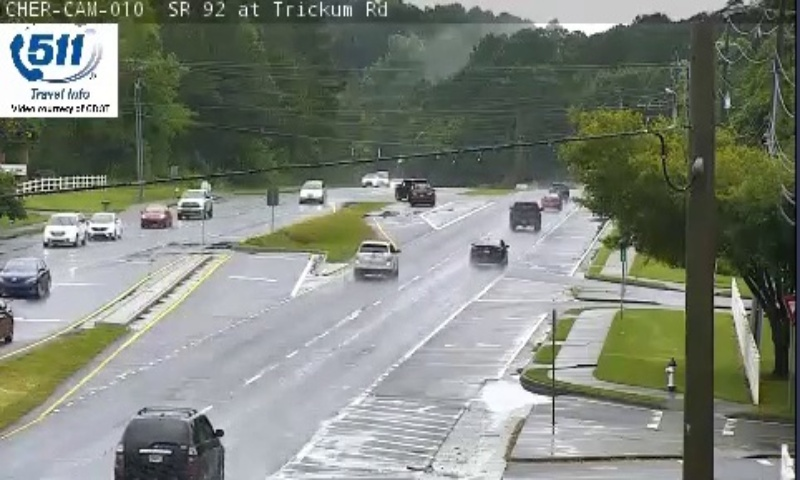car: (116, 409, 224, 480), (355, 240, 396, 270), (471, 238, 507, 263), (509, 202, 541, 229)
